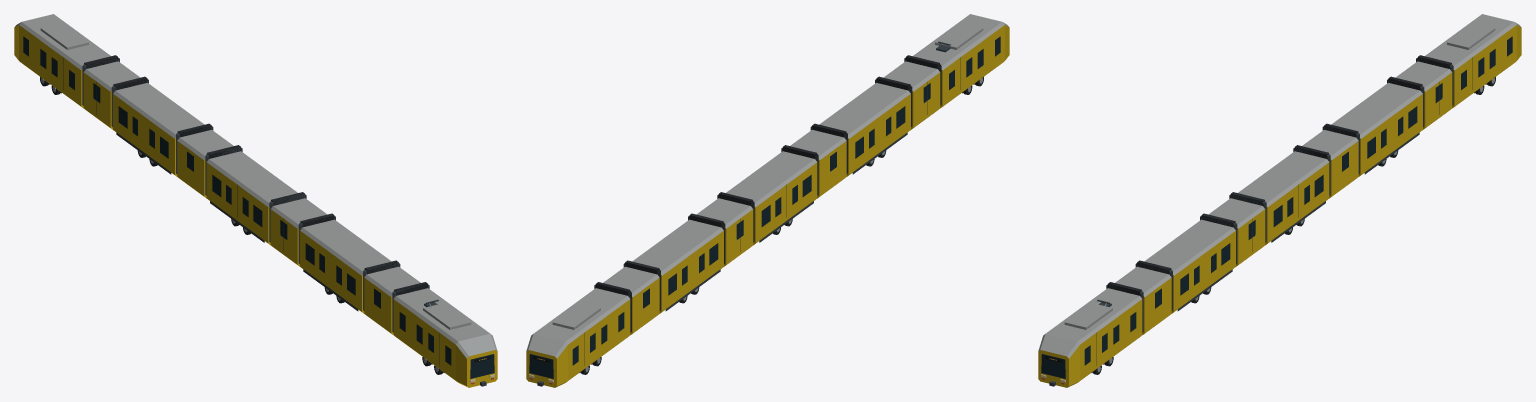
Rendered from tram-urbanliner.glb.
3 renders of one model, left to right at view 1: azimuth 30°, elevation 25°; view 2: azimuth 150°, elevation 25°; view 3: azimuth 330°, elevation 25°, orthographic.
Visible parts, largest first — view 1: tram-urbanliner.segment-01.005, tram-urbanliner.segment-03.005, tram-urbanliner.segment-05.005, tram-urbanliner.segment-07.005, tram-urbanliner.segment-09.005, tram-urbanliner.segment-06.005, tram-urbanliner.segment-02.005, tram-urbanliner.segment-04.005, tram-urbanliner.segment-08.005; view 2: tram-urbanliner.segment-09.005, tram-urbanliner.segment-01.005, tram-urbanliner.segment-03.005, tram-urbanliner.segment-07.005, tram-urbanliner.segment-05.005, tram-urbanliner.segment-04.005, tram-urbanliner.segment-08.005, tram-urbanliner.segment-02.005, tram-urbanliner.segment-06.005; view 3: tram-urbanliner.segment-01.005, tram-urbanliner.segment-03.005, tram-urbanliner.segment-05.005, tram-urbanliner.segment-07.005, tram-urbanliner.segment-09.005, tram-urbanliner.segment-06.005, tram-urbanliner.segment-02.005, tram-urbanliner.segment-04.005, tram-urbanliner.segment-08.005.
Boxes of the visible parts, <box> form: tram-urbanliner.segment-01.005: <box>392,282,497,387</box>; tram-urbanliner.segment-03.005: <box>298,213,391,313</box>; tram-urbanliner.segment-05.005: <box>205,145,297,245</box>; tram-urbanliner.segment-07.005: <box>111,76,204,176</box>; tram-urbanliner.segment-09.005: <box>14,14,110,108</box>; tram-urbanliner.segment-06.005: <box>176,123,233,198</box>; tram-urbanliner.segment-02.005: <box>363,260,420,334</box>; tram-urbanliner.segment-04.005: <box>269,192,327,266</box>; tram-urbanliner.segment-08.005: <box>82,55,139,129</box>; tram-urbanliner.segment-09.005: <box>526,288,630,387</box>; tram-urbanliner.segment-01.005: <box>904,14,1009,108</box>; tram-urbanliner.segment-03.005: <box>810,83,910,176</box>; tram-urbanliner.segment-07.005: <box>623,219,723,313</box>; tram-urbanliner.segment-05.005: <box>717,151,817,245</box>; tram-urbanliner.segment-04.005: <box>781,129,846,198</box>; tram-urbanliner.segment-08.005: <box>594,266,659,334</box>; tram-urbanliner.segment-02.005: <box>875,61,940,129</box>; tram-urbanliner.segment-06.005: <box>688,198,753,266</box>; tram-urbanliner.segment-01.005: <box>1038,282,1143,387</box>; tram-urbanliner.segment-03.005: <box>1144,213,1237,313</box>; tram-urbanliner.segment-05.005: <box>1238,145,1330,245</box>; tram-urbanliner.segment-07.005: <box>1331,76,1424,176</box>; tram-urbanliner.segment-09.005: <box>1425,14,1521,108</box>; tram-urbanliner.segment-06.005: <box>1302,123,1359,198</box>; tram-urbanliner.segment-02.005: <box>1115,260,1172,334</box>; tram-urbanliner.segment-04.005: <box>1208,192,1266,266</box>; tram-urbanliner.segment-08.005: <box>1396,55,1453,129</box>.
Bounding box in the file's own units: 2.45 × 3.35 × 51.33.
